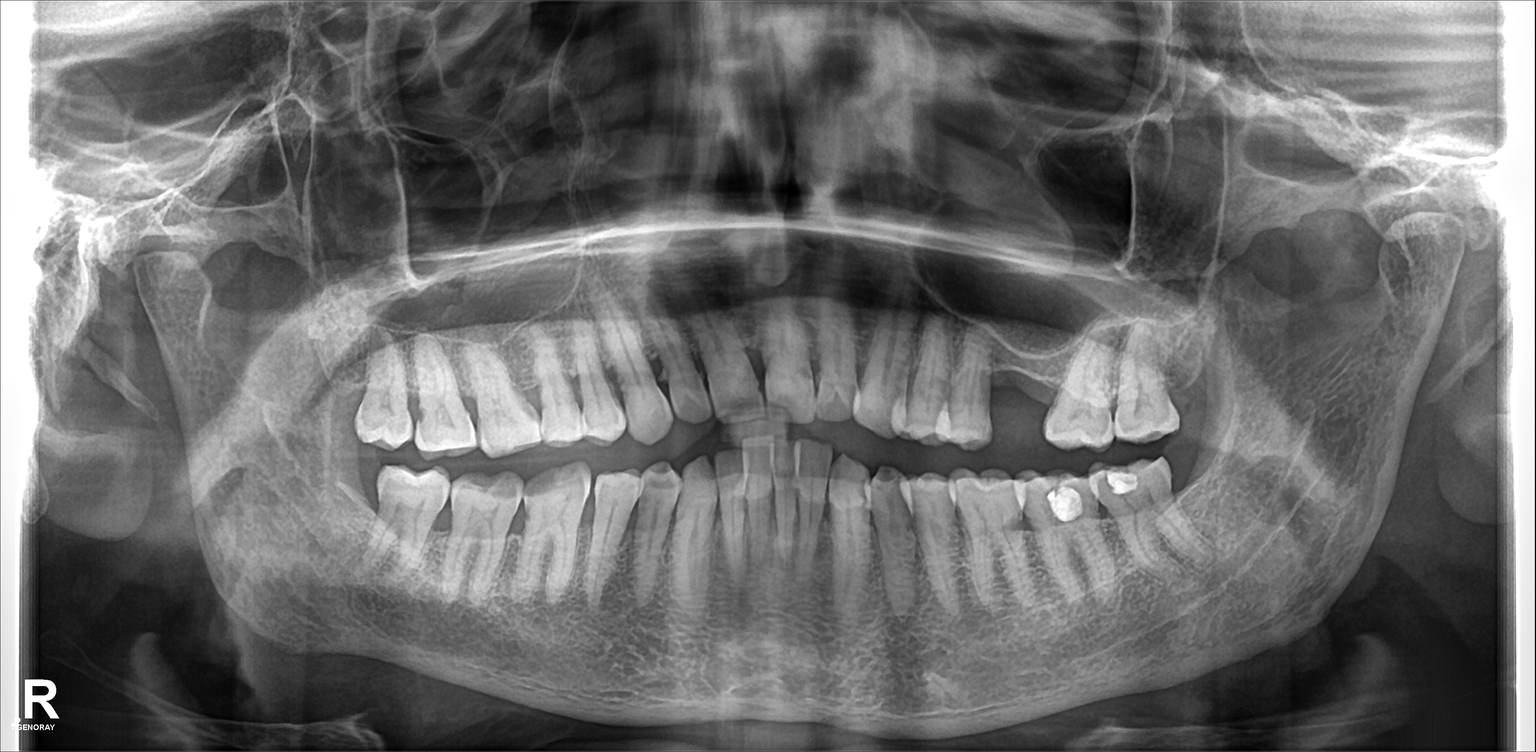Missing Tooth: (987, 344, 1046, 442), (343, 449, 389, 542), (1166, 329, 1211, 408), (1170, 447, 1210, 524)
